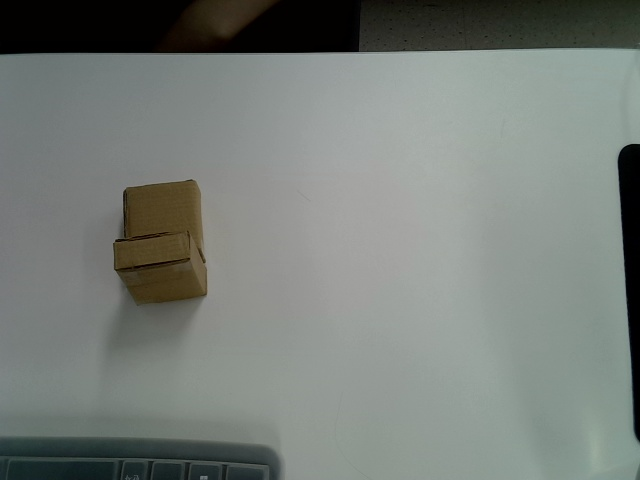normal: (113, 230, 208, 307), (121, 180, 206, 261)
